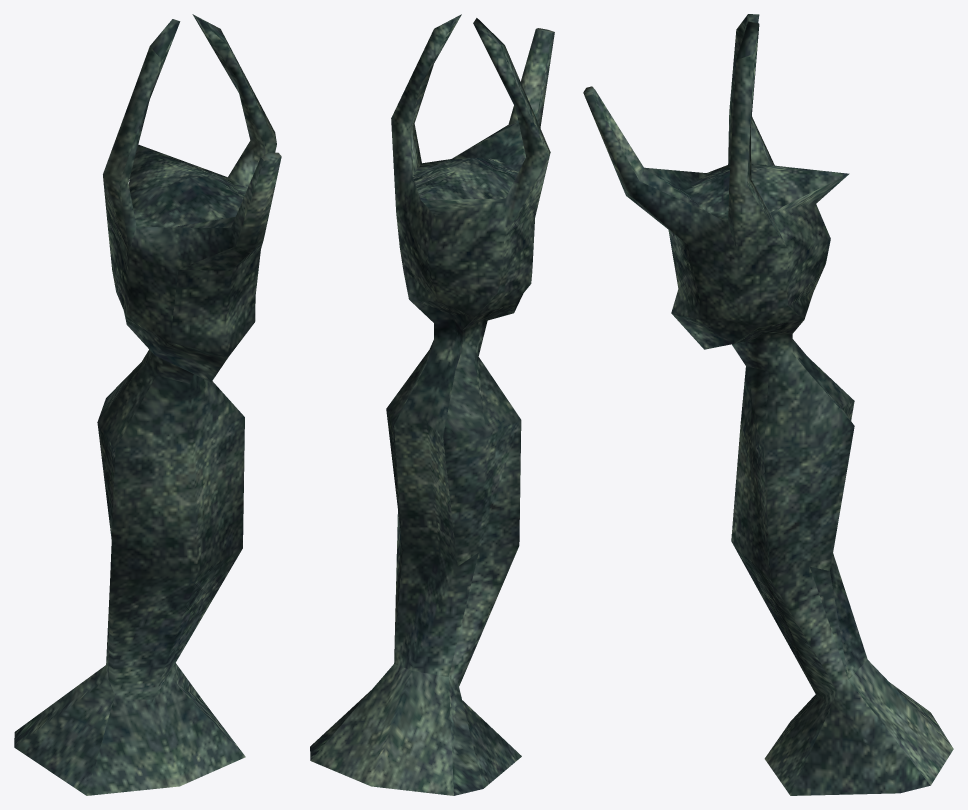
Rendered from DesertStatue.glb.
3 renders of one model, left to right at view 1: azimuth 30°, elevation 25°; view 2: azimuth 150°, elevation 25°; view 3: azimuth 270°, elevation 25°, orthographic. The views are drawn at different scales.
Parts seen in each view (by area): view 1: SymmVert; view 2: SymmVert; view 3: SymmVert.
Part boxes in pixels (box(x1,y1,x2,y2)): SymmVert: box(14, 14, 281, 795); SymmVert: box(310, 14, 554, 795); SymmVert: box(583, 14, 953, 795).
Bounding box in the file's own units: 1.64 × 6.38 × 2.89.
1 material, 1 textured.
